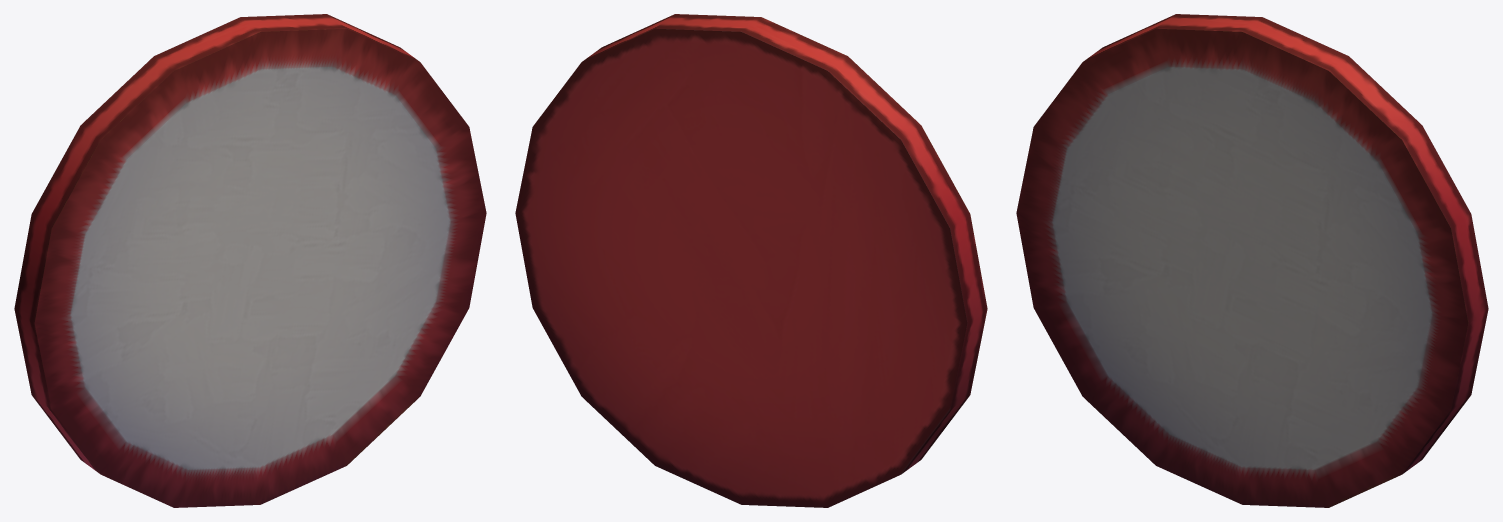
The model's file is CircularSign.fbx.
The picture shows the model from 3 angles, left to right: view 1: azimuth 30°, elevation 25°; view 2: azimuth 150°, elevation 25°; view 3: azimuth 330°, elevation 25°; orthographic projection.
Parts seen in each view (by area): view 1: CircularSign; view 2: CircularSign; view 3: CircularSign.
Boxes of the visible parts, x1,y1,x2,y2 form: CircularSign: (14,14,486,507); CircularSign: (515,14,987,507); CircularSign: (1016,14,1488,507).
Bounding box in the file's own units: 0.6926 × 0.6926 × 0.0535.
